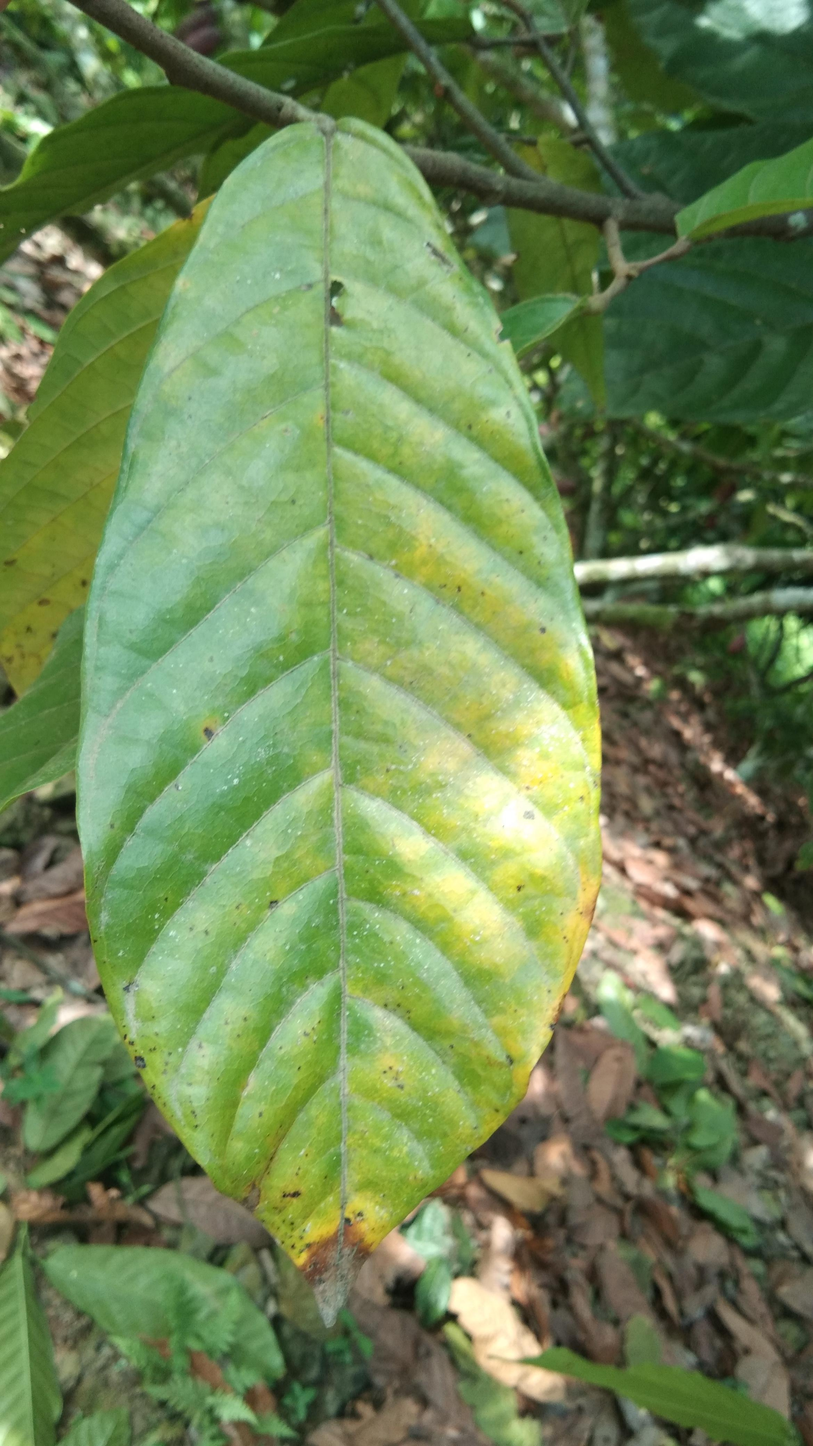deficiencia_potasio: (57, 105, 615, 1316)
